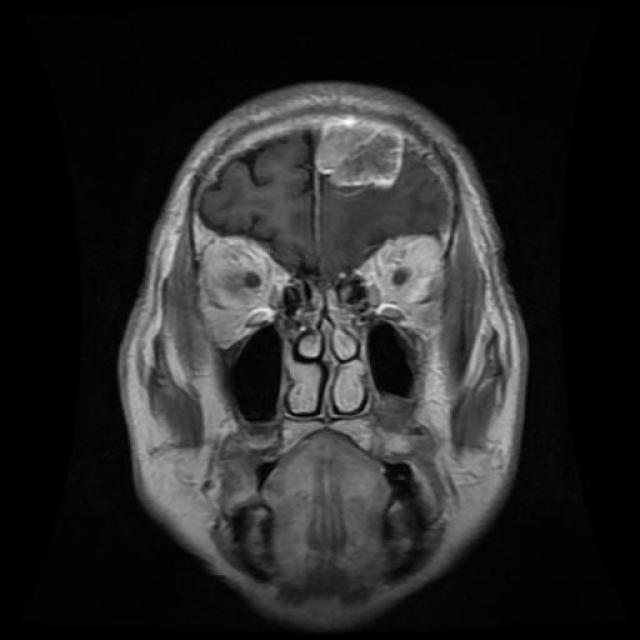meningioma: (316, 116, 404, 189)
